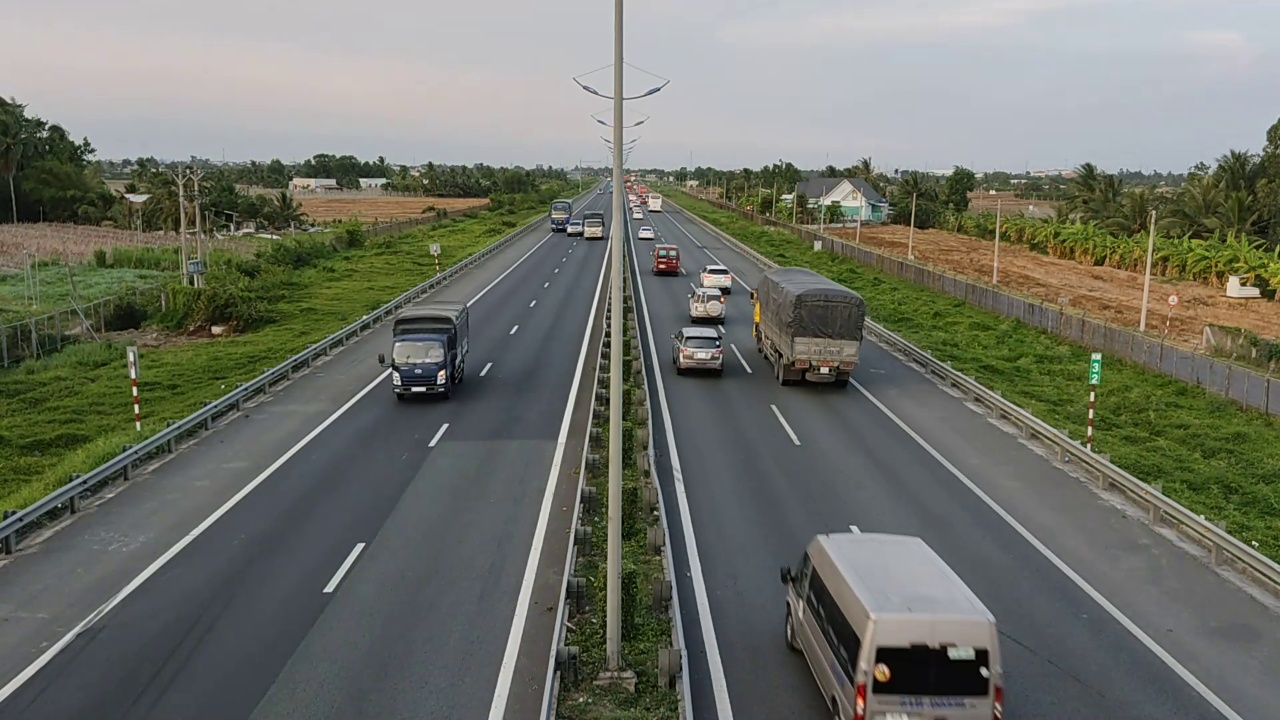bus: (752, 266, 867, 386)
car: (778, 525, 1007, 719), (670, 326, 724, 375), (651, 243, 683, 274), (699, 265, 733, 294)
truck: (389, 302, 471, 401), (582, 211, 604, 240)
